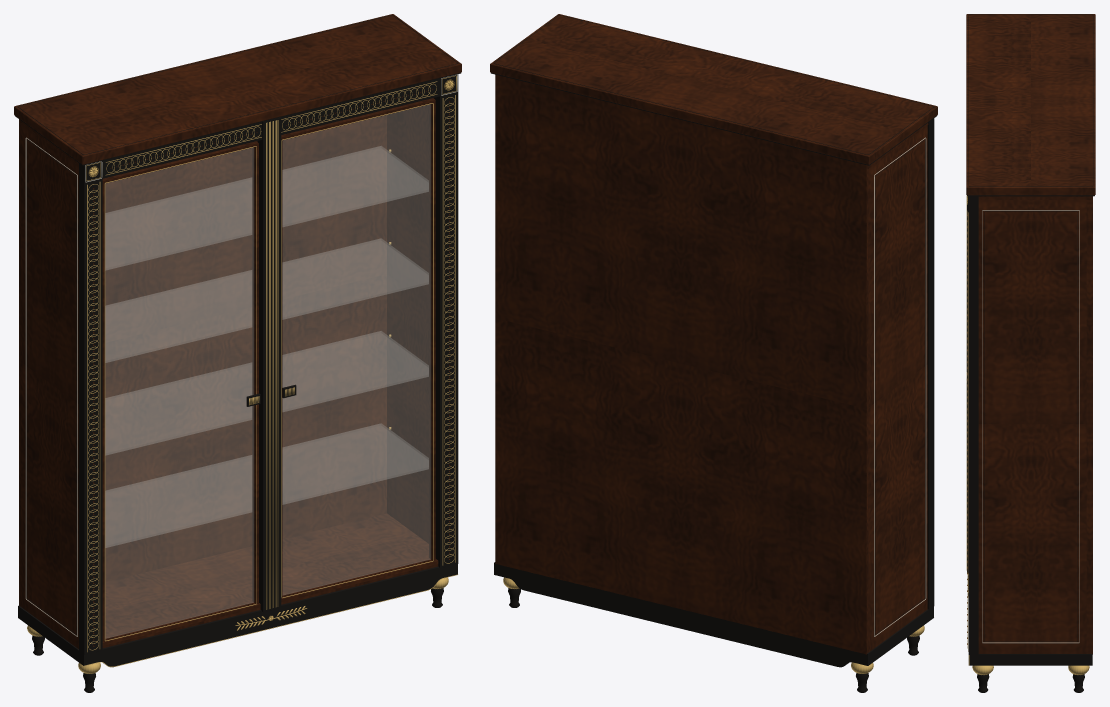
The picture shows the model from 3 angles, left to right: view 1: azimuth 30°, elevation 25°; view 2: azimuth 150°, elevation 25°; view 3: azimuth 270°, elevation 25°; orthographic projection. The views are drawn at different scales.
Parts seen in each view (by area): view 1: Nantes two-door glass display cabinet | dining-20 web batch; view 2: Nantes two-door glass display cabinet | dining-20 web batch; view 3: Nantes two-door glass display cabinet | dining-20 web batch.
Boxes of the visible parts, left/top/right/bottom form: Nantes two-door glass display cabinet | dining-20 web batch: left=14, top=14, right=461, bottom=692; Nantes two-door glass display cabinet | dining-20 web batch: left=490, top=14, right=937, bottom=692; Nantes two-door glass display cabinet | dining-20 web batch: left=966, top=14, right=1095, bottom=692.
Bounding box in the file's own units: 1.59 × 2.18 × 0.5.
Materials: 9 (2 with a texture image).
